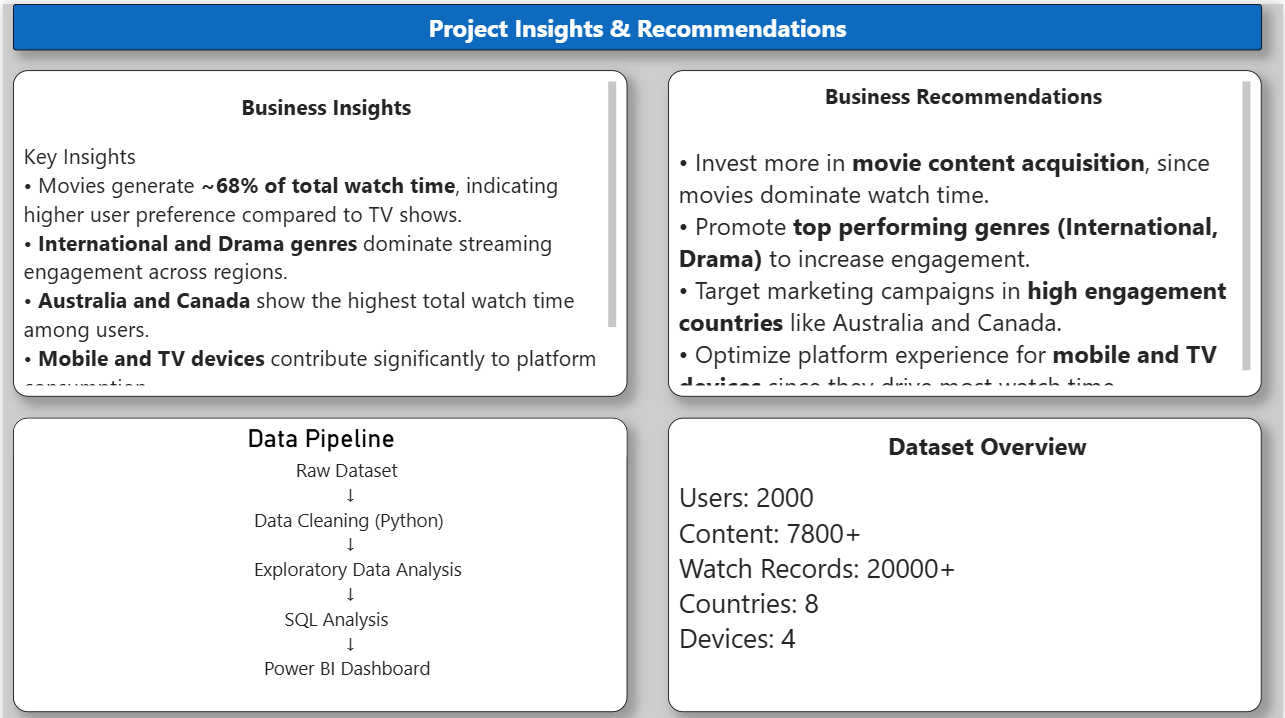

The page's visual inventory and layout, read from the dashboard file:
{"tool":"powerbi","page":{"name":"Business Insights And Recommendation","canvas":[1280,720],"ordinal":4},"visuals":[{"type":"textbox","box":[10,57.5,655,366.2],"z":0},{"type":"textbox","box":[665,57.5,615,366.2],"z":1000},{"type":"textbox","title":"Data Pipeline","box":[0,423.8,656.2,283.8],"z":2000},{"type":"textbox","box":[433.8,0,483.8,57.5],"z":3000},{"type":"textbox","box":[665,424,615,284],"z":3001}]}

Visuals, with their boxes in screenshot pixels (x1, y1, x2, y2), scaled from the page's 1280x720 canvas onto the 1285x718 screenshot:
textbox: <region>10, 57, 668, 423</region>
textbox: <region>668, 57, 1284, 423</region>
"Data Pipeline" textbox: <region>0, 423, 659, 706</region>
textbox: <region>435, 0, 921, 57</region>
textbox: <region>668, 423, 1284, 706</region>
